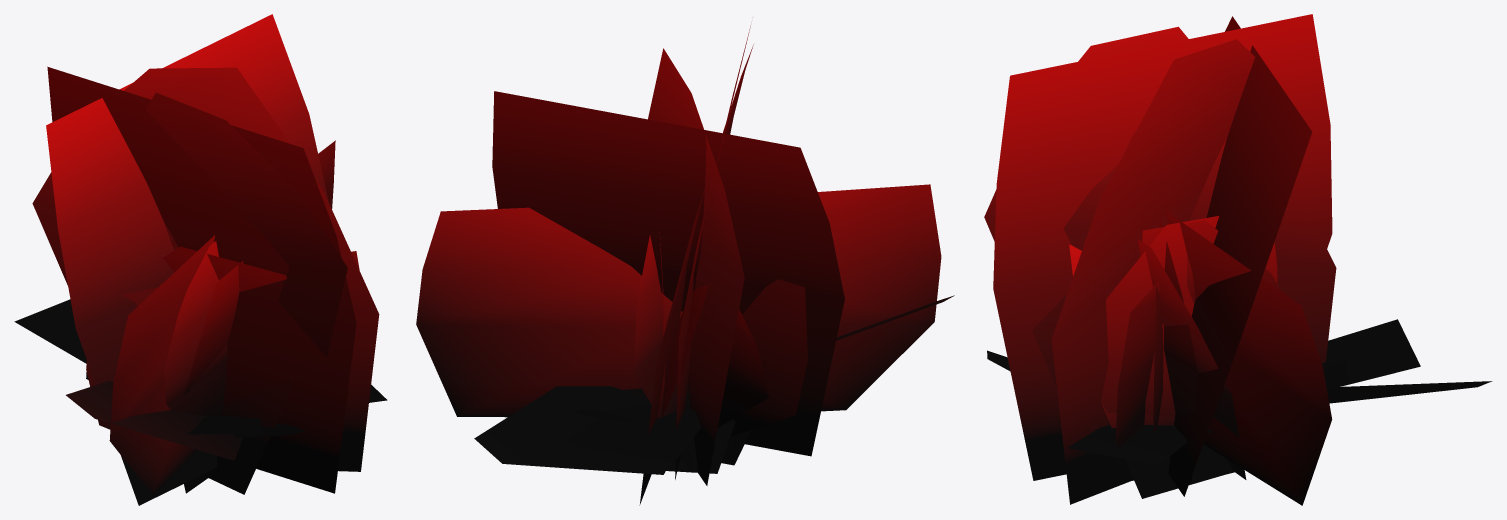
The model's file is Meadow_Grass_01_Var1.FBX.
3 views of the same model, side by side, from view 1: azimuth 30°, elevation 25°; view 2: azimuth 150°, elevation 25°; view 3: azimuth 270°, elevation 25° (orthographic). The views are drawn at different scales.
Parts seen in each view (by area): view 1: Meadow_Grass_01_Var1_LOD0; view 2: Meadow_Grass_01_Var1_LOD0; view 3: Meadow_Grass_01_Var1_LOD0.
Part boxes in pixels (<box>): Meadow_Grass_01_Var1_LOD0: <box>14,14,387,505</box>; Meadow_Grass_01_Var1_LOD0: <box>416,25,954,505</box>; Meadow_Grass_01_Var1_LOD0: <box>984,14,1492,505</box>.
Size of what is drawn, in the model's own units: 30.51 by 30.02 by 32.49.
